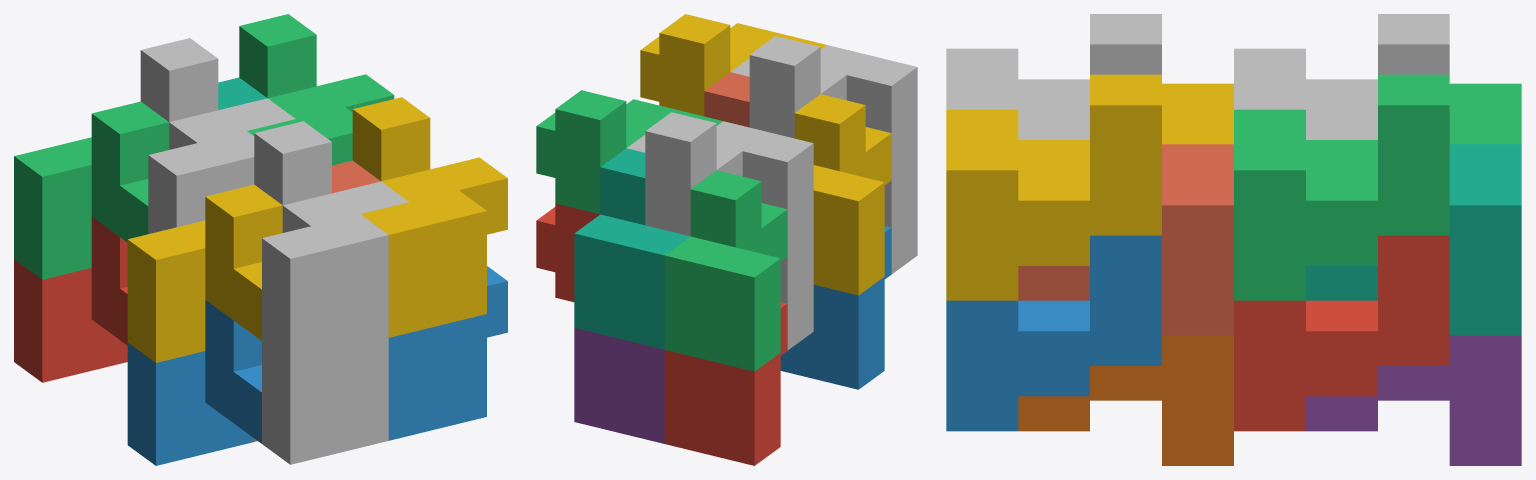
File: tiling.obj
3 views of the same model, side by side, from view 1: azimuth 30°, elevation 25°; view 2: azimuth 150°, elevation 25°; view 3: azimuth 270°, elevation 25° (orthographic). The views are drawn at different scales.
Parts seen in each view (by area): view 1: copy_2_domain_4, copy_2_domain_8, copy_1_domain_4, copy_1_domain_3, copy_2_domain_3, copy_1_domain_2, copy_2_domain_2, copy_1_domain_1, copy_2_domain_6, copy_2_domain_7, copy_1_domain_7, copy_1_domain_8; view 2: copy_1_domain_3, copy_1_domain_4, copy_2_domain_3, copy_1_domain_7, copy_2_domain_4, copy_1_domain_1, copy_2_domain_7, copy_1_domain_5, copy_1_domain_2, copy_2_domain_8, copy_2_domain_5, copy_2_domain_1 (+2 smaller); view 3: copy_2_domain_8, copy_2_domain_7, copy_2_domain_6, copy_2_domain_5, copy_1_domain_7, copy_1_domain_8, copy_1_domain_5, copy_1_domain_6, copy_2_domain_4, copy_2_domain_3, copy_1_domain_3, copy_1_domain_4.
Boxes of the visible parts, x1,y1,x2,y2 form: copy_2_domain_4: (254, 121, 409, 361); copy_2_domain_8: (352, 97, 507, 337); copy_1_domain_4: (127, 184, 282, 362); copy_1_domain_3: (14, 101, 169, 279); copy_2_domain_3: (140, 38, 295, 233); copy_1_domain_2: (127, 300, 261, 465); copy_2_domain_2: (262, 338, 388, 464); copy_1_domain_1: (14, 217, 127, 382); copy_2_domain_6: (388, 266, 507, 440); copy_2_domain_7: (239, 14, 394, 165); copy_1_domain_7: (218, 77, 266, 109); copy_1_domain_8: (332, 160, 380, 193); copy_1_domain_3: (664, 170, 787, 371); copy_1_domain_4: (794, 94, 891, 295); copy_2_domain_3: (627, 112, 813, 255); copy_1_domain_7: (574, 148, 689, 349); copy_2_domain_4: (731, 36, 917, 179); copy_1_domain_1: (664, 302, 787, 465); copy_2_domain_7: (536, 90, 722, 214); copy_1_domain_5: (574, 328, 664, 443); copy_1_domain_2: (780, 226, 891, 389); copy_2_domain_8: (640, 14, 826, 116); copy_2_domain_5: (536, 203, 599, 301); copy_2_domain_1: (780, 237, 813, 350); copy_2_domain_8: (946, 74, 1161, 300); copy_2_domain_7: (1234, 74, 1449, 300); copy_2_domain_6: (946, 235, 1161, 431); copy_2_domain_5: (1234, 235, 1449, 431); copy_1_domain_7: (1306, 144, 1521, 335); copy_1_domain_8: (1018, 144, 1233, 335); copy_1_domain_5: (1306, 335, 1521, 465); copy_1_domain_6: (1018, 335, 1233, 465); copy_2_domain_4: (946, 14, 1161, 139); copy_2_domain_3: (1234, 14, 1449, 139); copy_1_domain_3: (1449, 83, 1521, 144); copy_1_domain_4: (1162, 83, 1233, 144).
Size of the model in its own units: 6 by 6 by 8.
